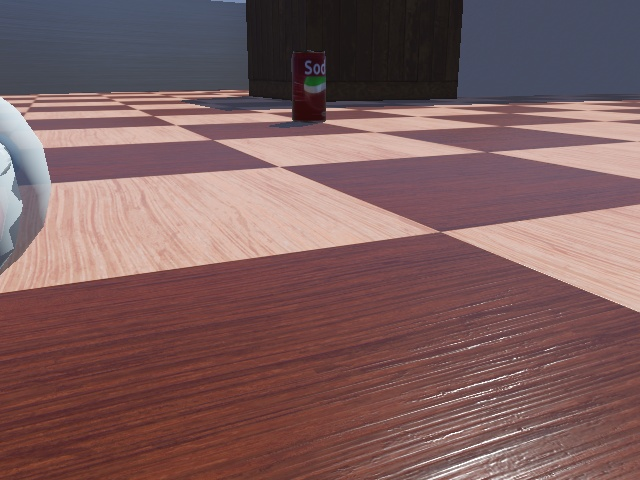lon_nuoc: (290, 48, 328, 122)
